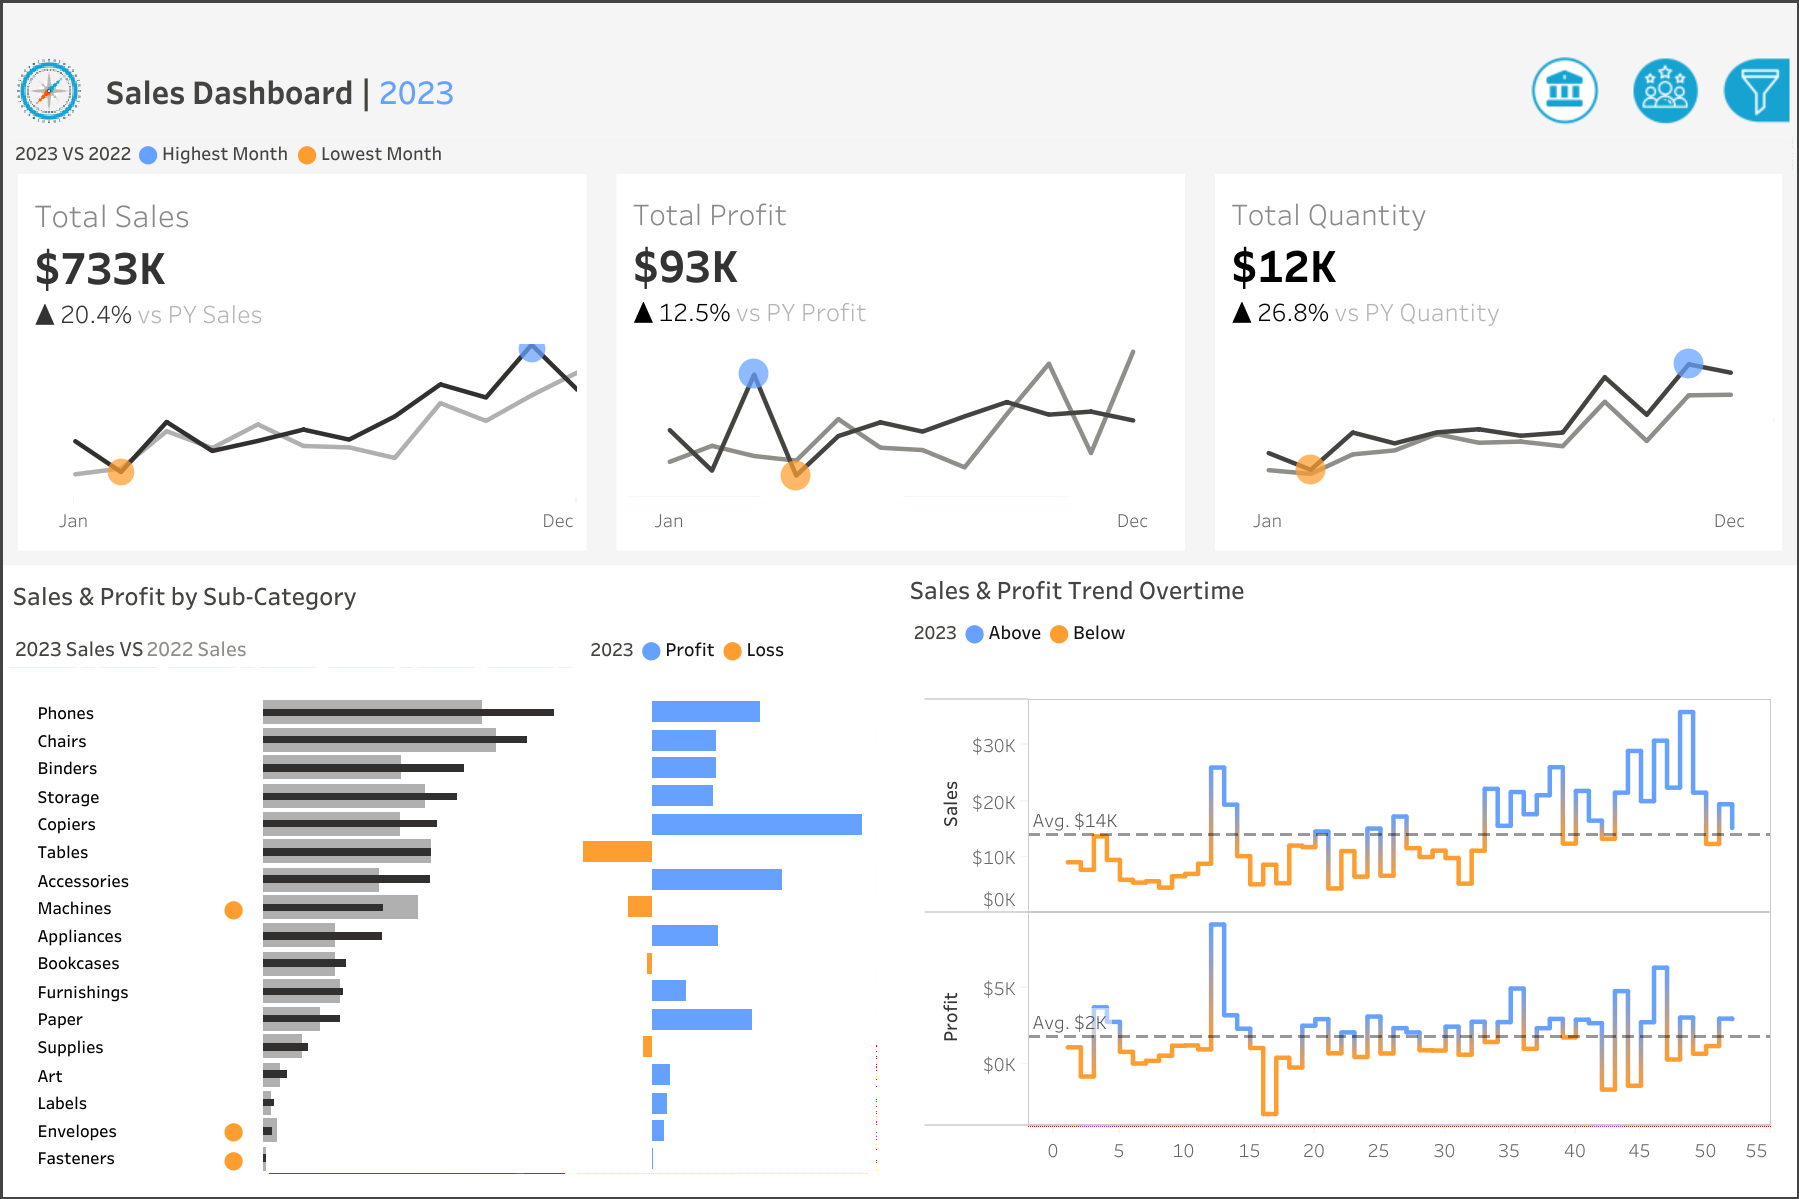

The page's visual inventory and layout, read from the dashboard file:
{"tool":"tableau","page":{"name":"Sales Dashboard","canvas":[1200,800],"ordinal":1},"visuals":[{"type":"blank","box":[2,2,1196,32]},{"type":"image","param":"Image/Icon - Logo.png","box":[2,34,62,53]},{"type":"text","box":[64,34,946,53]},{"type":"dashboard-object","box":[1010,34,67,53]},{"type":"dashboard-object","box":[1077,34,67,53]},{"type":"dashboard-object","box":[1144,34,54,53]},{"type":"worksheet","title":"Legends KPI","mark":"Automatic","box":[2,87,1196,29]},{"type":"text","box":[1015,105,173,42]},{"type":"worksheet","title":"KPI Sales","mark":"Automatic","rows":["Calculation_0809851676311570"],"cols":["Order Date"],"box":[2,116,399,261]},{"type":"worksheet","title":"KPI Profit","mark":"Automatic","rows":["Calculation_0809852322938926"],"cols":["Order Date"],"box":[401,116,399,261]},{"type":"worksheet","title":"KPI Quantity","mark":"Automatic","rows":["Calculation_0809852323635247"],"cols":["Order Date"],"box":[800,116,398,261]},{"type":"parameter","param":"[Parameters].[Parameter 0809851671003150]","box":[1015,147,173,76]},{"type":"blank","box":[1015,223,173,33]},{"type":"text","box":[1015,256,173,49]},{"type":"filter","title":"KPI Sales","param":"[federated.1uo8g6a04o2a0o13bzhg10rgxeyp].[none:Region:nk]","box":[1015,305,173,72]},{"type":"text","box":[2,377,598,39]},{"type":"text","box":[600,377,598,38.7]},{"type":"filter","title":"KPI Sales","param":"[federated.1uo8g6a04o2a0o13bzhg10rgxeyp].[none:State:nk]","box":[1015,377,173,74]},{"type":"text","box":[600,415.7,598,33]},{"type":"worksheet","title":"Legends Sub-Category","mark":"Automatic","box":[2,416,385,32]},{"type":"text","box":[387,416,213,32]},{"type":"worksheet","title":"Sub-Category Comparison","mark":"Bar","rows":["Sub-Category","Calculation_0809852394135601"],"cols":["Current Year Sales (copy)_0809851670319115","Calculation_0809851669983242","Calculation_0809851692998679"],"box":[2,448,598,349.9]},{"type":"worksheet","title":"Weekly Trends","mark":"Automatic","rows":["Calculation_0809851669983242","Calculation_0809851692998679"],"cols":["Order Date"],"box":[600,448.7,598,349.3]},{"type":"filter","title":"KPI Sales","param":"[federated.1uo8g6a04o2a0o13bzhg10rgxeyp].[none:City:nk]","box":[1015,451,173,94]},{"type":"blank","box":[1015,545,173,32]},{"type":"text","box":[1015,577,173,49]},{"type":"filter","title":"KPI Sales","param":"[federated.1uo8g6a04o2a0o13bzhg10rgxeyp].[none:Category:nk]","box":[1015,626,173,76]},{"type":"filter","title":"KPI Sales","param":"[federated.1uo8g6a04o2a0o13bzhg10rgxeyp].[none:Sub-Category:nk]","box":[1015,702,173,85]}]}

Visuals, with their boxes in screenshot pixels (x1, y1, x2, y2), scaled from the page's 1200x800 canvas onto the 1799x1199 screenshot:
blank: 3, 3, 1796, 51
image: 3, 51, 96, 130
text: 96, 51, 1514, 130
dashboard-object: 1514, 51, 1615, 130
dashboard-object: 1615, 51, 1715, 130
dashboard-object: 1715, 51, 1796, 130
"Legends KPI" worksheet: 3, 130, 1796, 174
text: 1522, 157, 1781, 220
"KPI Sales" worksheet: 3, 174, 601, 565
"KPI Profit" worksheet: 601, 174, 1199, 565
"KPI Quantity" worksheet: 1199, 174, 1796, 565
parameter: 1522, 220, 1781, 334
blank: 1522, 334, 1781, 384
text: 1522, 384, 1781, 457
"KPI Sales" filter: 1522, 457, 1781, 565
text: 3, 565, 900, 623
text: 900, 565, 1796, 623
"KPI Sales" filter: 1522, 565, 1781, 676
text: 900, 623, 1796, 672
"Legends Sub-Category" worksheet: 3, 623, 580, 671
text: 580, 623, 900, 671
"Sub-Category Comparison" worksheet (Bar marks): 3, 671, 900, 1196
"Weekly Trends" worksheet: 900, 672, 1796, 1196
"KPI Sales" filter: 1522, 676, 1781, 817
blank: 1522, 817, 1781, 865
text: 1522, 865, 1781, 938
"KPI Sales" filter: 1522, 938, 1781, 1052
"KPI Sales" filter: 1522, 1052, 1781, 1180
